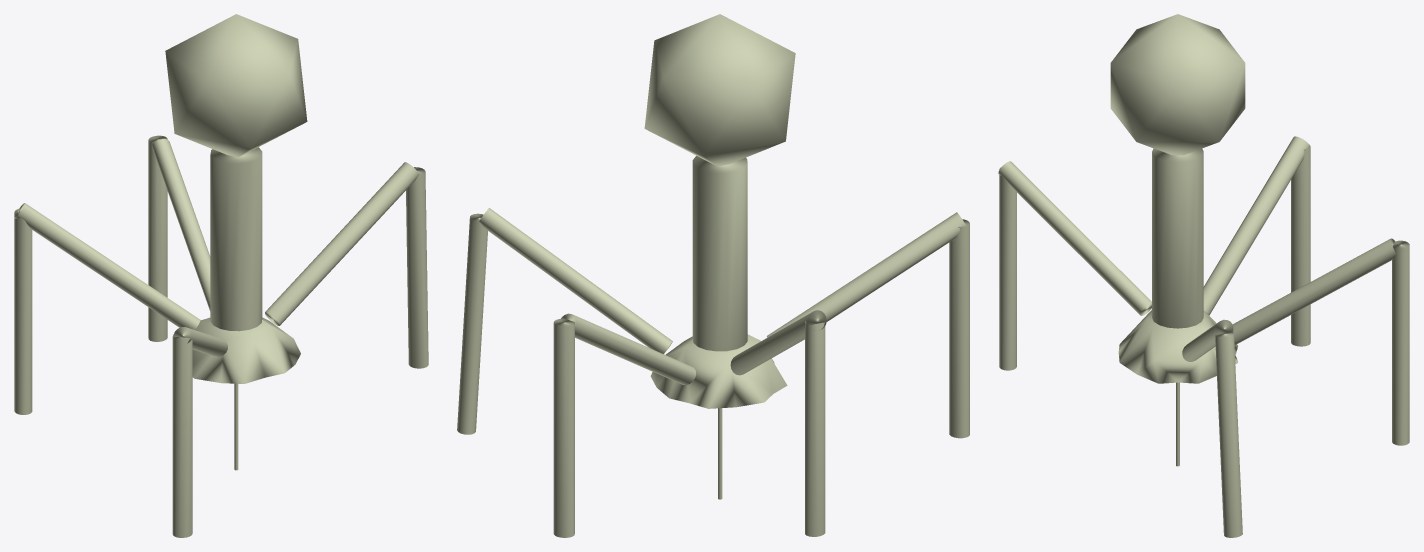
The model's file is Bacteriophage.fbx.
The picture shows the model from 3 angles, left to right: view 1: azimuth 30°, elevation 25°; view 2: azimuth 150°, elevation 25°; view 3: azimuth 270°, elevation 25°; orthographic projection. The views are drawn at different scales.
Visible parts, largest first — view 1: icosahedro, Cylinder5, octotoad7_, Cylinder90, Cylinder93, Cylinder91, Cylinder94, Cylinder95, Cylinder97, Cylinder96, Cylinder92; view 2: icosahedro, Cylinder5, octotoad7_, Cylinder97, Cylinder90, Cylinder95, Cylinder93, Cylinder91, Cylinder92, Cylinder96, Cylinder94; view 3: icosahedro, Cylinder5, octotoad7_, Cylinder91, Cylinder94, Cylinder92, Cylinder96, Cylinder97, Cylinder93, Cylinder95, Cylinder90.
Part boxes in pixels (box(x1,y1,x2,y2)): icosahedro: box(165, 14, 307, 156); Cylinder5: box(210, 147, 262, 331); octotoad7_: box(192, 317, 300, 383); Cylinder90: box(265, 162, 419, 325); Cylinder93: box(172, 335, 192, 537); Cylinder91: box(406, 167, 428, 368); Cylinder94: box(14, 203, 200, 329); Cylinder95: box(14, 209, 32, 414); Cylinder97: box(148, 135, 167, 341); Cylinder96: box(152, 139, 210, 310); Cylinder92: box(173, 327, 227, 357); icosahedro: box(644, 14, 795, 166); Cylinder5: box(692, 156, 747, 351); octotoad7_: box(650, 334, 787, 408); Cylinder97: box(553, 318, 574, 537); Cylinder90: box(479, 208, 672, 353); Cylinder95: box(805, 321, 825, 536); Cylinder93: box(949, 219, 969, 438); Cylinder91: box(457, 213, 487, 434); Cylinder92: box(767, 212, 966, 337); Cylinder96: box(561, 313, 695, 384); Cylinder94: box(730, 310, 826, 375); icosahedro: box(1110, 14, 1245, 155); Cylinder5: box(1152, 148, 1203, 328); octotoad7_: box(1118, 310, 1237, 383); Cylinder91: box(1215, 332, 1242, 537); Cylinder94: box(1203, 136, 1309, 315); Cylinder92: box(998, 161, 1151, 315); Cylinder96: box(1232, 238, 1396, 344); Cylinder97: box(1392, 240, 1409, 445); Cylinder93: box(999, 167, 1016, 370); Cylinder95: box(1291, 146, 1310, 346); Cylinder90: box(1182, 319, 1233, 361).
Size of the model in its own units: 23 by 26.46 by 21.84.
